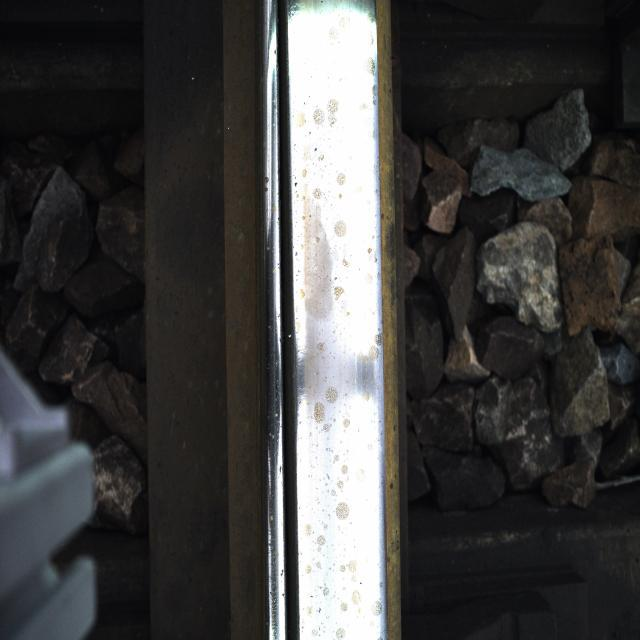normal: (304, 72, 378, 568)
